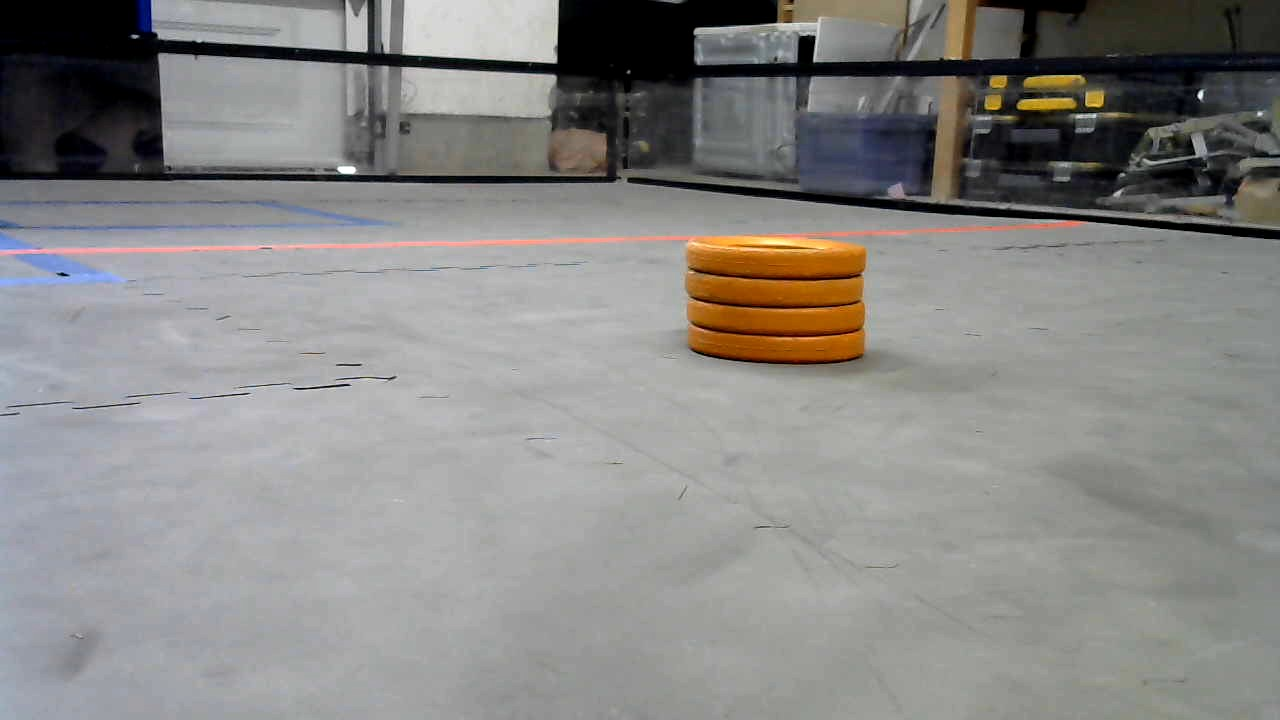FourStack: (685, 237, 869, 364)
